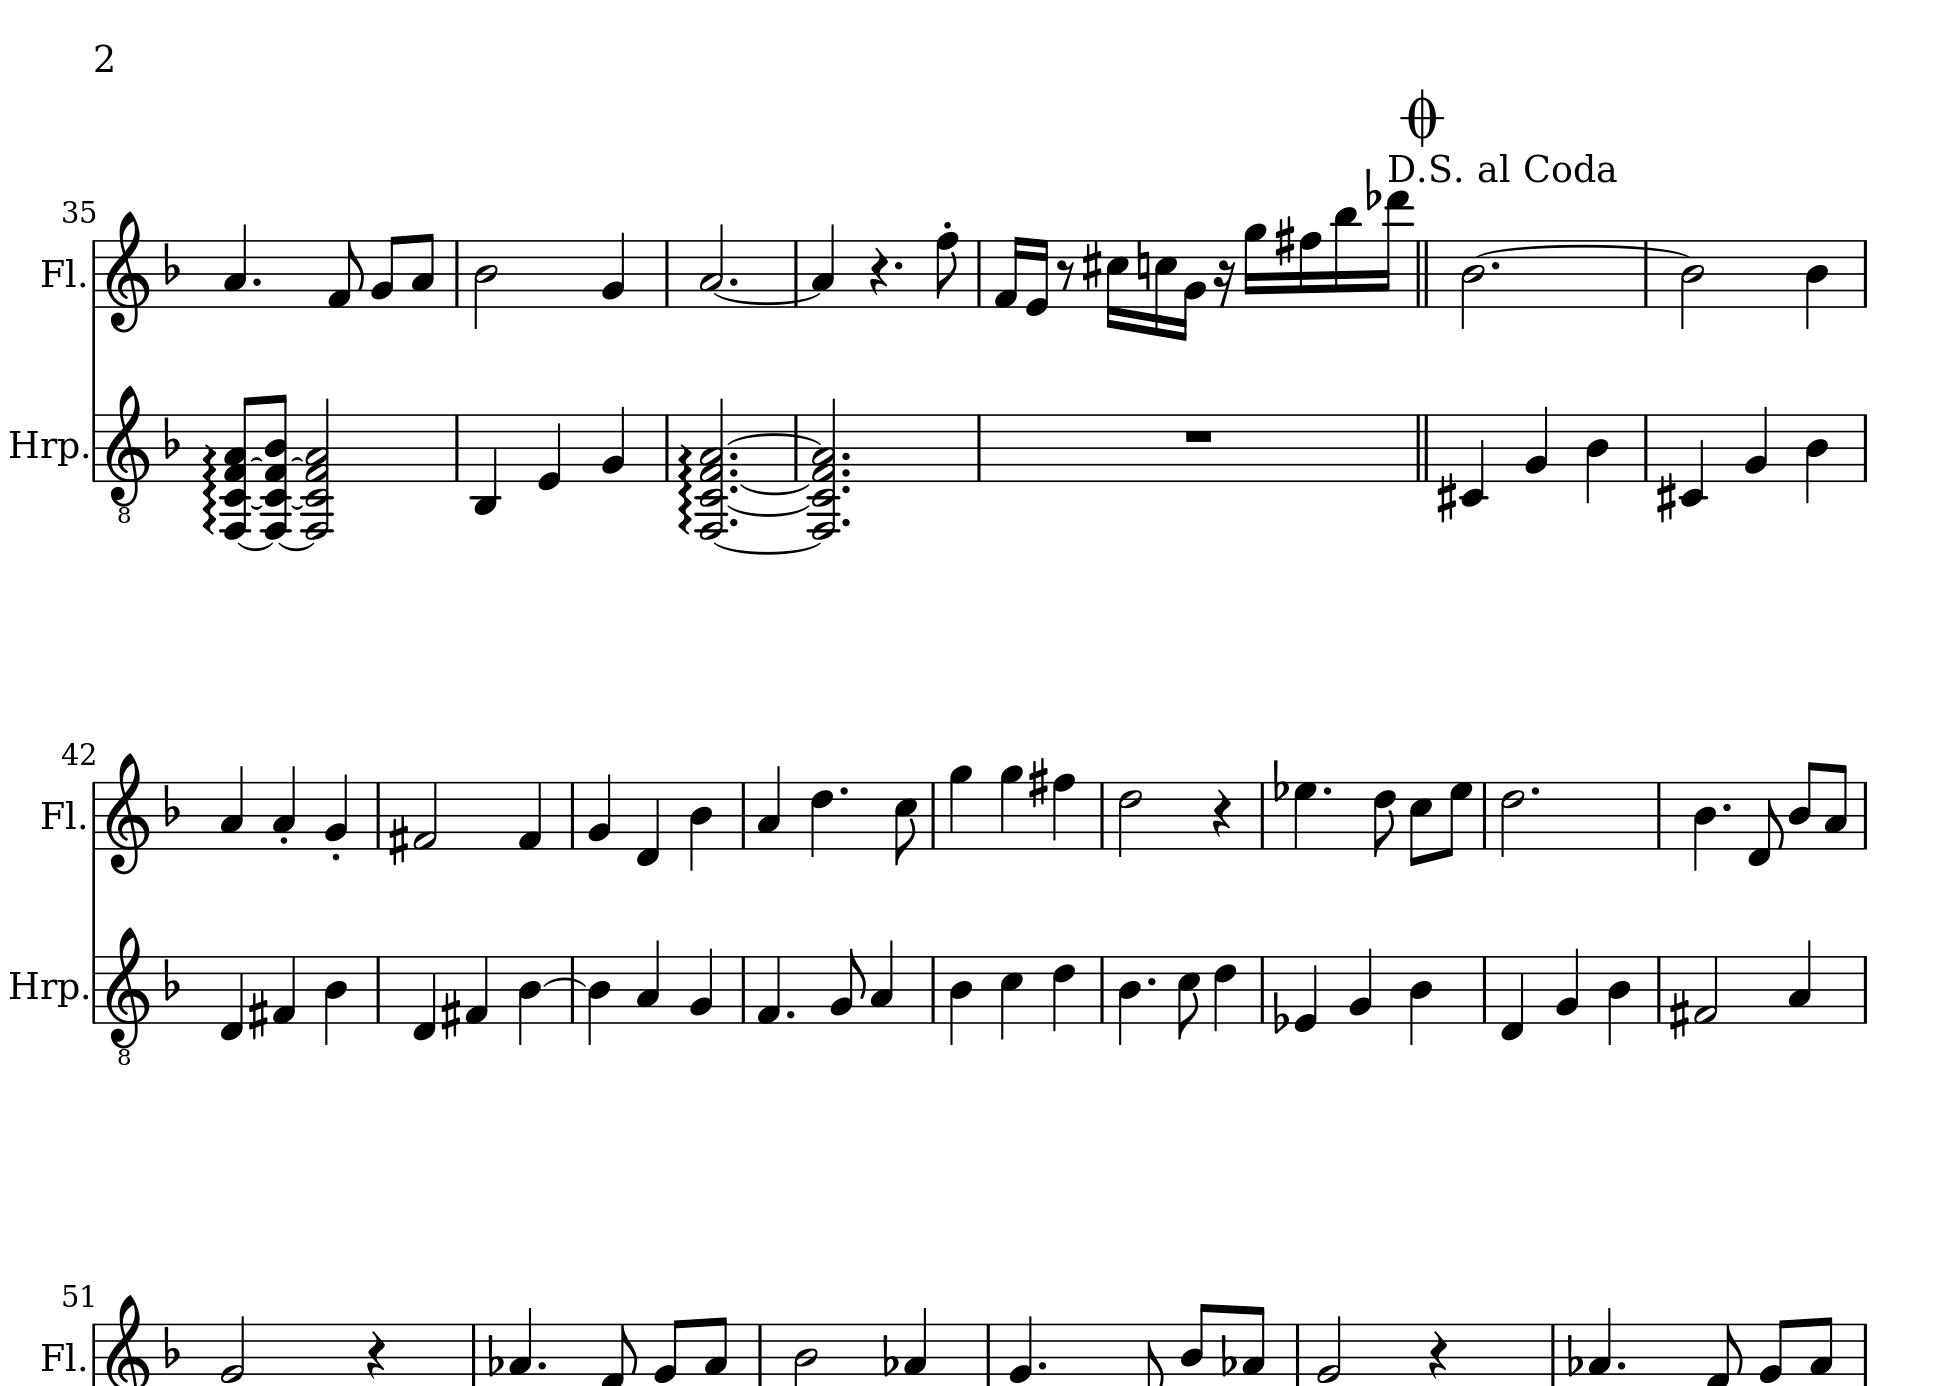1: (79, 1282, 94, 1309)
16_0: (1023, 235, 1050, 318)
16_1: (993, 235, 1023, 310)
16_11: (1332, 205, 1360, 309)
16_13: (1378, 190, 1413, 309)
16_2: (1177, 238, 1206, 342)
16_5: (1152, 237, 1177, 340), (1105, 238, 1129, 331)
16_8: (1297, 229, 1323, 310)
16_9: (1242, 220, 1266, 309)
2: (91, 40, 115, 73), (78, 739, 96, 766)
2_1: (1693, 952, 1719, 1024), (412, 778, 438, 849)
2_3: (697, 222, 724, 307)
2_4: (1459, 238, 1486, 331), (472, 238, 499, 330), (1680, 238, 1707, 330)
2_4th: (697, 396, 727, 547), (303, 397, 333, 541), (808, 399, 838, 541)
2_6: (1117, 778, 1143, 858), (1500, 780, 1524, 858)
3: (60, 198, 79, 225)
4: (61, 739, 78, 766)
4_-1: (634, 778, 661, 868), (217, 952, 244, 1042), (411, 952, 436, 1042), (1500, 952, 1525, 1042)
4_-2: (1461, 411, 1488, 505), (1680, 412, 1707, 507)
4_-3: (471, 411, 499, 517)
4_0: (1294, 952, 1320, 1035), (537, 411, 562, 492)
4_1: (754, 952, 781, 1024), (463, 952, 489, 1024), (517, 780, 543, 850), (271, 954, 297, 1024)
4_2: (1524, 403, 1551, 483), (1743, 403, 1770, 483), (586, 771, 613, 850), (688, 945, 715, 1024), (1554, 946, 1581, 1024), (601, 229, 627, 309), (601, 403, 627, 483), (324, 771, 349, 850), (1348, 945, 1374, 1024)
4_3: (634, 937, 661, 1024), (756, 763, 781, 850), (1788, 937, 1813, 1024), (810, 222, 835, 307), (219, 763, 244, 849), (870, 939, 895, 1024), (271, 763, 297, 847), (223, 222, 247, 307)
4_4: (1584, 412, 1611, 504), (1804, 412, 1830, 505), (322, 954, 348, 1045), (1408, 954, 1434, 1045), (1606, 954, 1632, 1045), (1692, 781, 1717, 871), (586, 954, 610, 1047), (1806, 238, 1830, 330), (688, 780, 712, 871), (517, 954, 541, 1045), (949, 955, 973, 1047), (1117, 955, 1141, 1047)
4_5: (999, 954, 1024, 1041)
4_6: (1051, 952, 1077, 1033), (808, 780, 834, 859), (1213, 954, 1237, 1032)
4_7: (1291, 780, 1317, 850)
4_8: (1051, 771, 1077, 852)
4_9: (946, 763, 973, 850), (999, 762, 1023, 850)
5: (61, 1279, 79, 1309), (78, 196, 96, 225)
8_-1: (1746, 780, 1785, 868)
8_1: (325, 238, 364, 309)
8_2: (829, 946, 865, 1024), (370, 234, 400, 307)
8_3: (1824, 762, 1848, 850), (409, 231, 435, 309)
8_4: (1788, 759, 1819, 850)
8_4th: (220, 390, 256, 535), (262, 391, 292, 547)
8_5: (892, 780, 919, 867), (1407, 778, 1432, 867), (1176, 954, 1200, 1039)
8_6: (1371, 778, 1398, 858)
8_7: (1441, 780, 1473, 856)
8_8: (933, 229, 960, 307)
Arpeggio: (199, 442, 220, 538), (676, 439, 694, 538)
Coda: (1401, 87, 1444, 145)
DSalcoda: (1386, 151, 1623, 186)
Double_barline: (1413, 238, 1434, 307), (1411, 412, 1432, 481)
Fl: (37, 253, 78, 292), (37, 796, 76, 832), (39, 1339, 76, 1374)
Flat: (160, 240, 181, 286), (160, 414, 181, 460), (160, 955, 181, 1000), (1218, 1330, 1237, 1378), (162, 1323, 181, 1369), (1272, 988, 1290, 1036), (1566, 1332, 1584, 1378), (162, 781, 180, 826), (486, 1333, 504, 1378), (880, 1333, 898, 1378), (1365, 166, 1381, 211), (1272, 757, 1288, 802)
Gclef: (103, 925, 150, 1066), (103, 208, 150, 334), (103, 751, 150, 874), (106, 1293, 148, 1386)
Hn: (7, 424, 82, 469), (7, 966, 79, 1009)
Lower_Gclef: (103, 382, 150, 525)
Natural: (1135, 238, 1152, 292)
Rests1: (1182, 424, 1216, 445)
Rests16: (1213, 258, 1236, 307)
Rests4: (1426, 1327, 1450, 1380), (867, 244, 889, 298), (1210, 787, 1233, 840), (364, 1329, 387, 1380)
Rests8: (1056, 256, 1077, 292)
Sharp: (1080, 238, 1104, 292), (246, 987, 268, 1041), (439, 988, 462, 1042), (387, 814, 409, 865), (1275, 213, 1296, 267), (1437, 471, 1458, 523), (1656, 471, 1677, 523), (1668, 988, 1689, 1041), (1029, 754, 1048, 808)
Single_barline: (85, 238, 103, 307), (787, 240, 805, 307), (924, 955, 942, 1021), (1650, 955, 1668, 1021), (1857, 238, 1873, 307), (87, 412, 103, 481), (658, 240, 675, 307), (970, 240, 987, 307), (1638, 240, 1654, 307), (970, 414, 987, 481), (1857, 414, 1873, 481), (1857, 781, 1873, 849), (1857, 955, 1873, 1023), (751, 1323, 769, 1384), (448, 240, 465, 306), (1638, 414, 1654, 480), (735, 781, 751, 847), (1095, 781, 1111, 847), (1254, 781, 1270, 847), (1477, 781, 1494, 847), (1651, 781, 1668, 847), (735, 955, 751, 1021), (1095, 955, 1111, 1021), (1255, 955, 1272, 1021), (658, 412, 673, 481), (1290, 1323, 1306, 1384), (448, 414, 463, 481), (87, 781, 102, 849), (87, 955, 102, 1023), (565, 781, 580, 847), (370, 781, 385, 847), (925, 781, 940, 847), (370, 955, 385, 1021), (1477, 955, 1492, 1021), (87, 1323, 102, 1384), (466, 1323, 481, 1384), (1546, 1323, 1561, 1384), (1858, 1324, 1873, 1386), (981, 1324, 996, 1384), (790, 414, 804, 478)
Slur: (724, 430, 826, 444), (712, 292, 822, 304), (712, 543, 822, 553), (727, 504, 810, 516), (733, 483, 810, 495), (543, 975, 586, 988), (235, 541, 274, 550), (279, 541, 313, 550), (289, 456, 304, 463)
dot: (1719, 799, 1734, 814), (840, 514, 853, 529), (835, 783, 850, 796), (1144, 973, 1158, 988), (1035, 1357, 1050, 1371), (1614, 1357, 1629, 1371), (838, 448, 852, 462), (1528, 783, 1542, 796), (784, 1006, 798, 1020), (535, 1357, 549, 1371), (250, 274, 262, 288), (840, 465, 852, 478), (840, 481, 853, 493), (1320, 784, 1333, 796), (892, 259, 904, 271), (727, 274, 739, 286), (727, 450, 739, 462), (727, 481, 739, 493), (727, 516, 739, 528), (1491, 259, 1501, 273), (727, 466, 739, 477)
